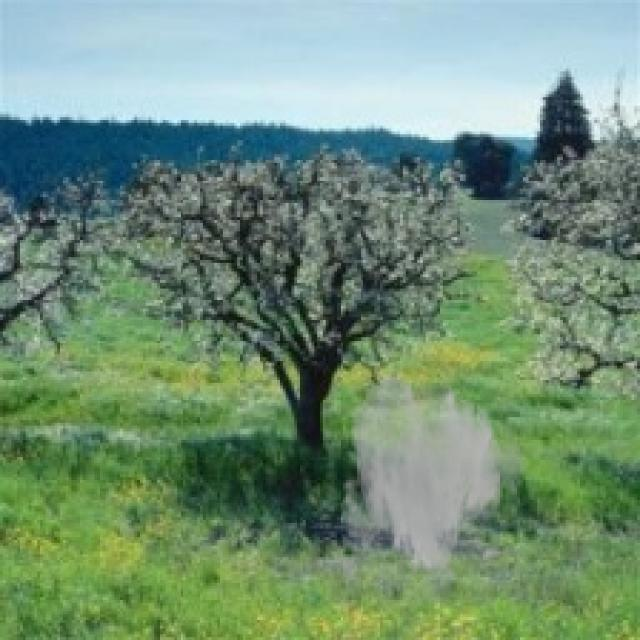smoke: (328, 368, 532, 603)
